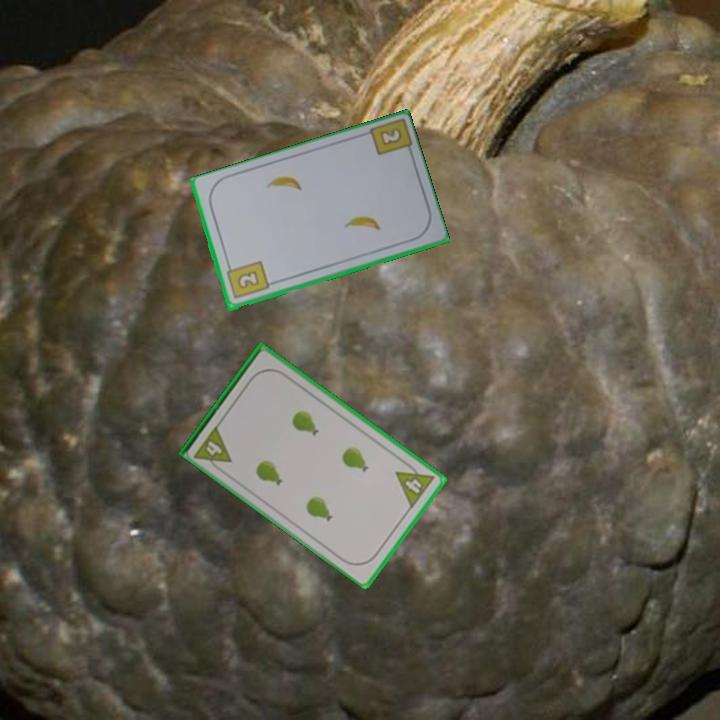2b: (223, 258, 271, 302), (378, 126, 403, 147)
4p: (392, 457, 438, 511), (191, 421, 234, 475)
